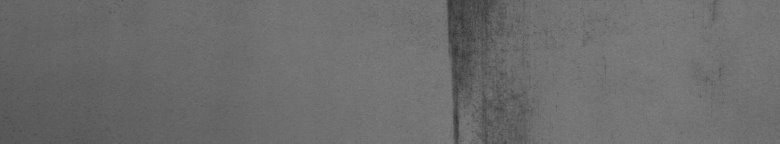ka: (436, 4, 548, 136)
